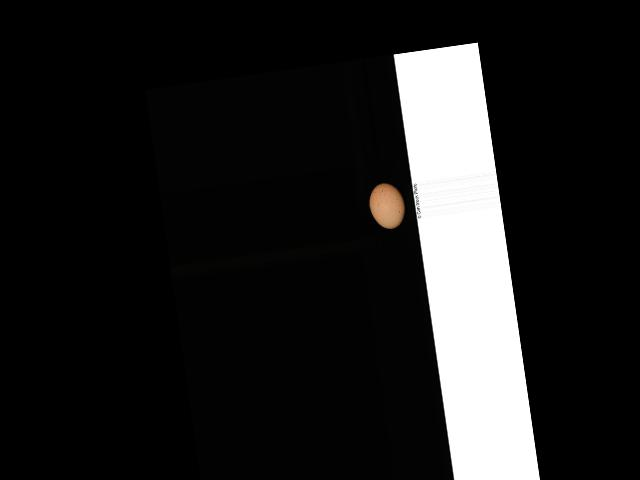egg: (367, 180, 408, 231)
